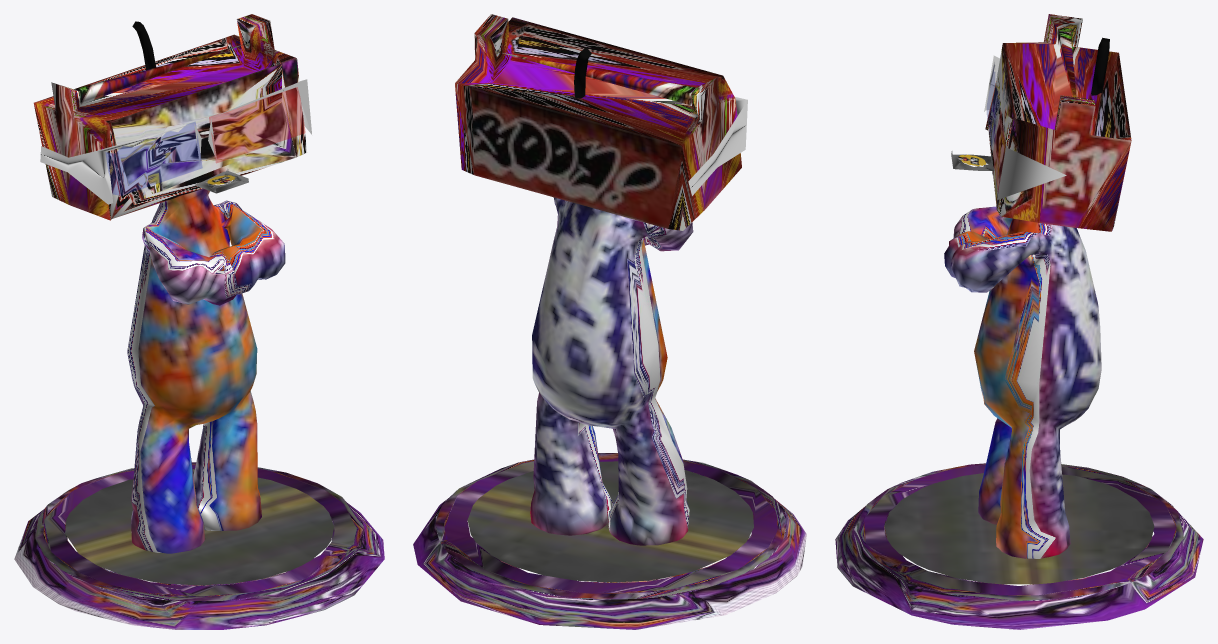
The picture shows the model from 3 angles, left to right: view 1: azimuth 30°, elevation 25°; view 2: azimuth 150°, elevation 25°; view 3: azimuth 270°, elevation 25°; orthographic projection. The views are drawn at different scales.
Bounding box in the file's own units: 1.45 × 2.17 × 1.43.
12 materials, 5 textured.
